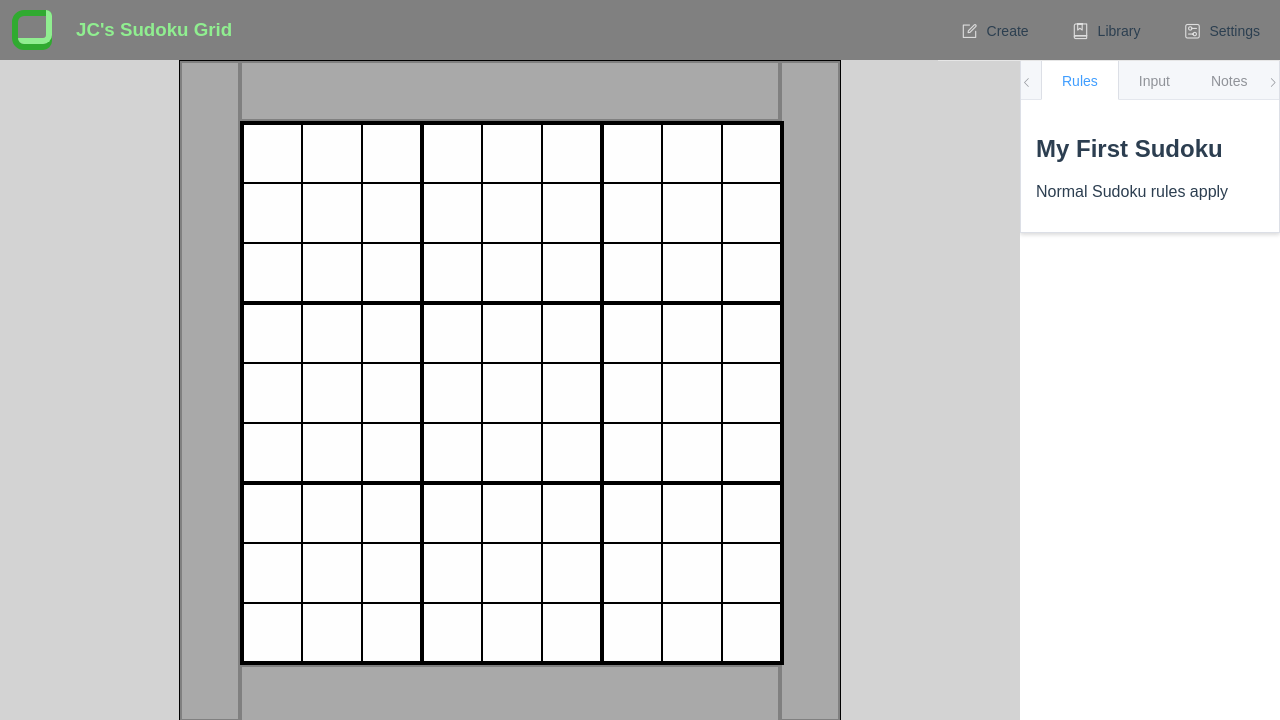
Scenario: Regions › Can change size of grid
Click the menu item with test id "navSet".
click(994, 30)  # box [938, 0, 1049, 60]
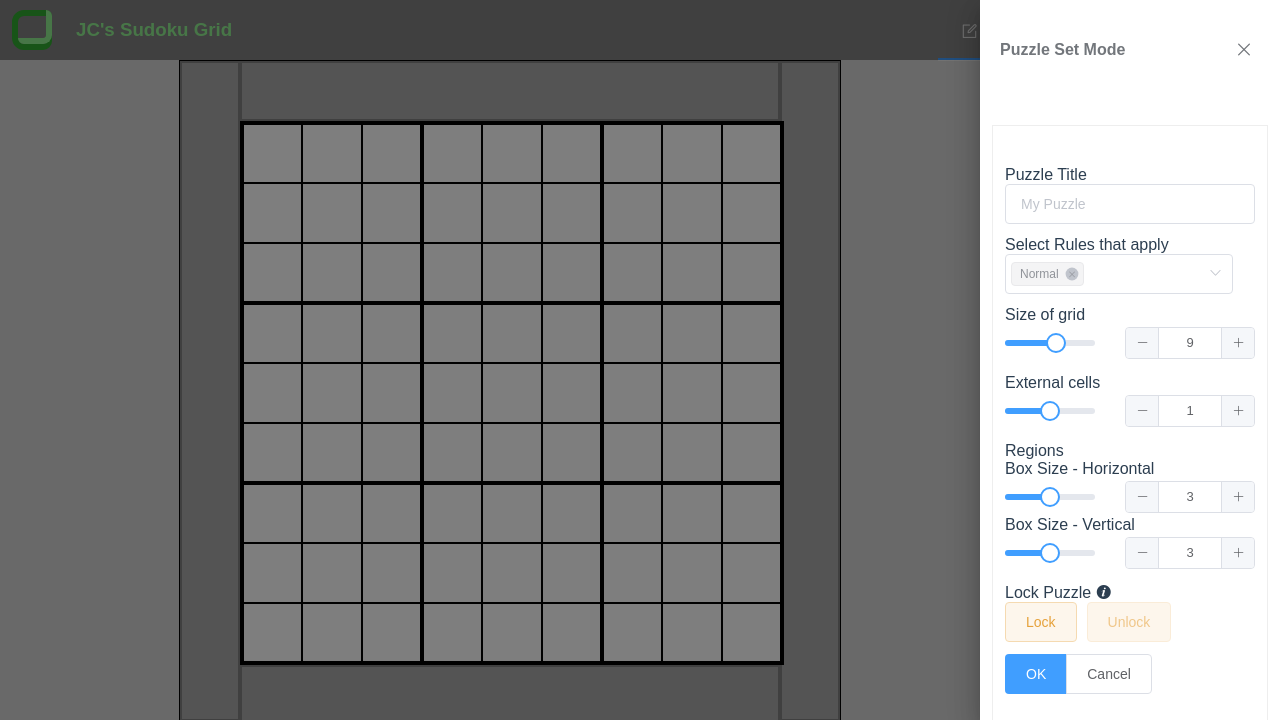
Replace the text in the 1st number field with "6" at (1190, 343), box [1125, 327, 1255, 359]
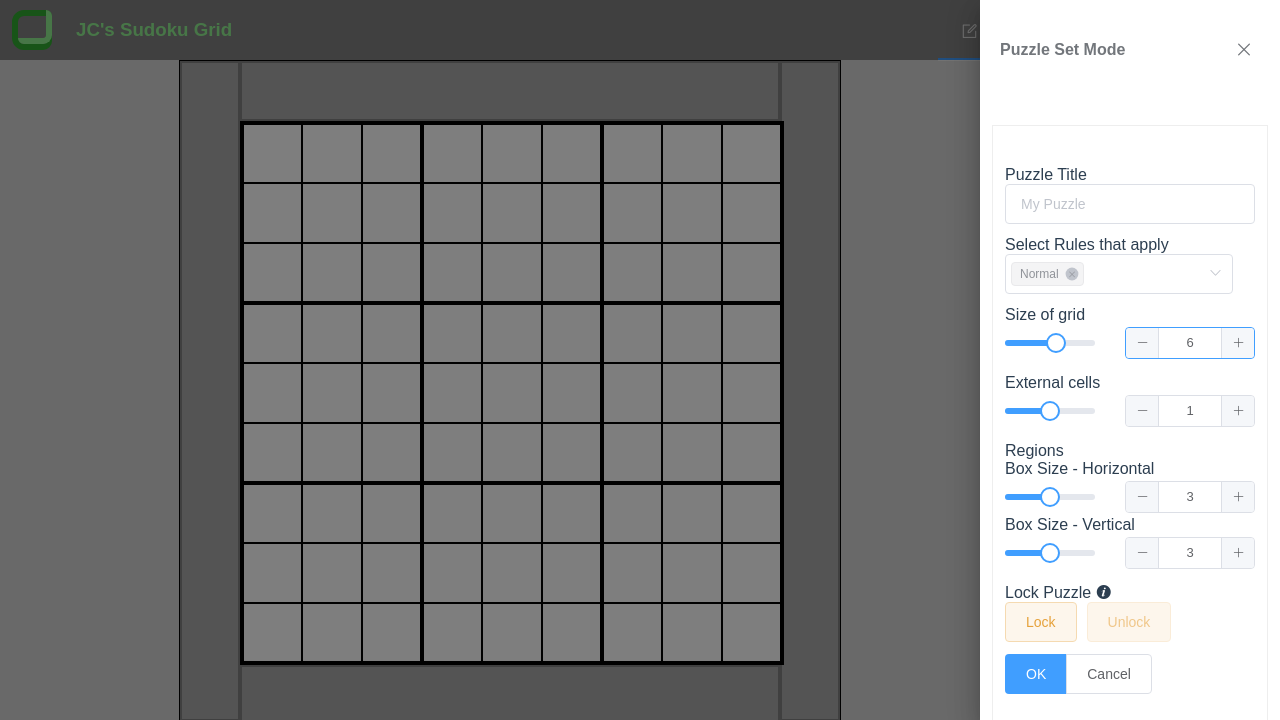
Press Enter in the 1st number field, box [1125, 327, 1255, 359]
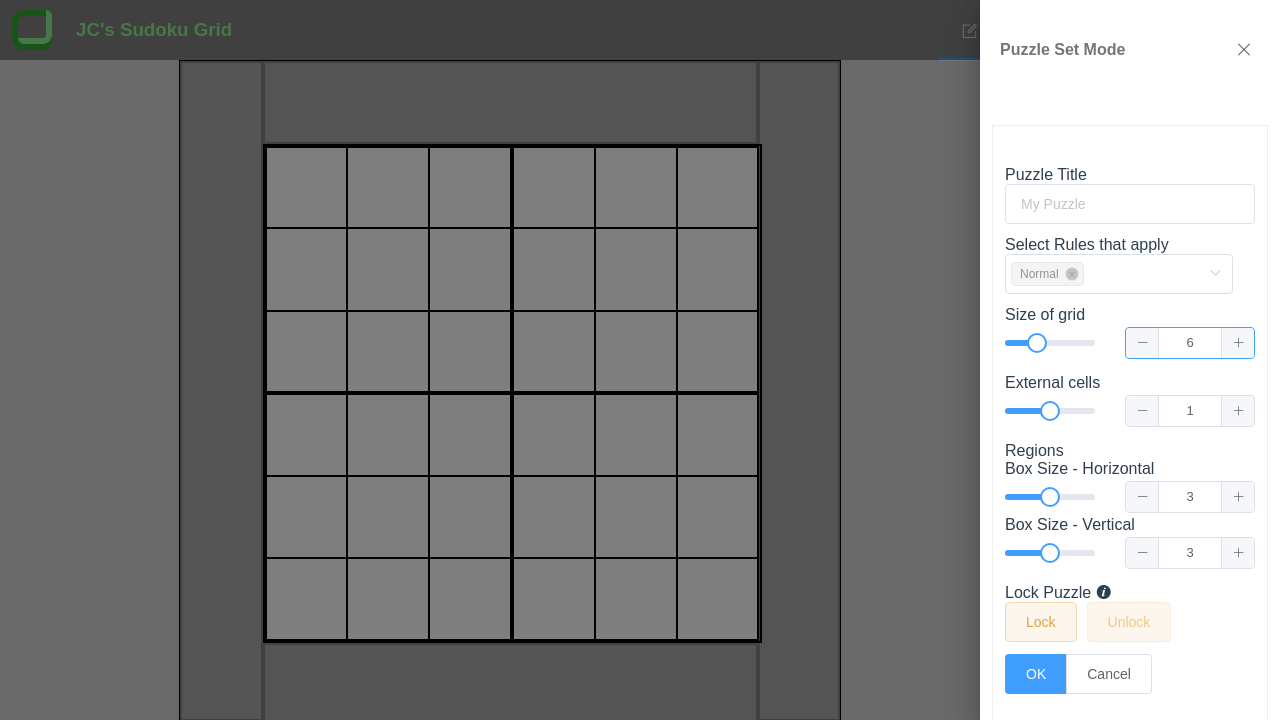
Check: the element with id "r8c8" is gone
